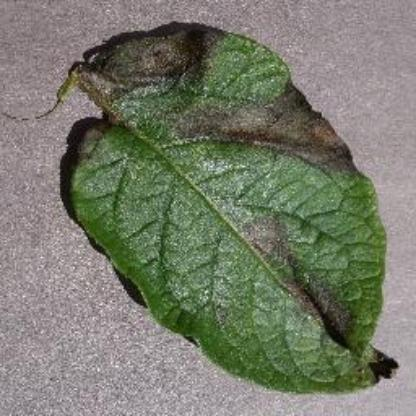Late-Blight: (48, 20, 406, 394)
